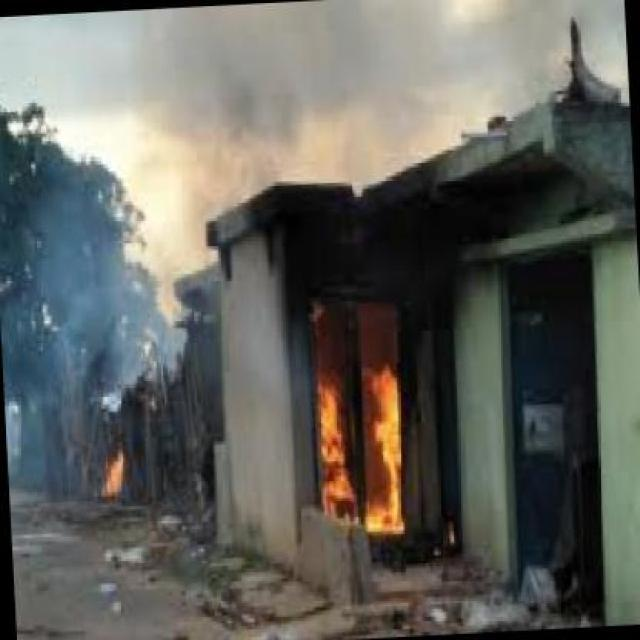Fire: (287, 338, 417, 542)
Smoke: (86, 16, 568, 204)
